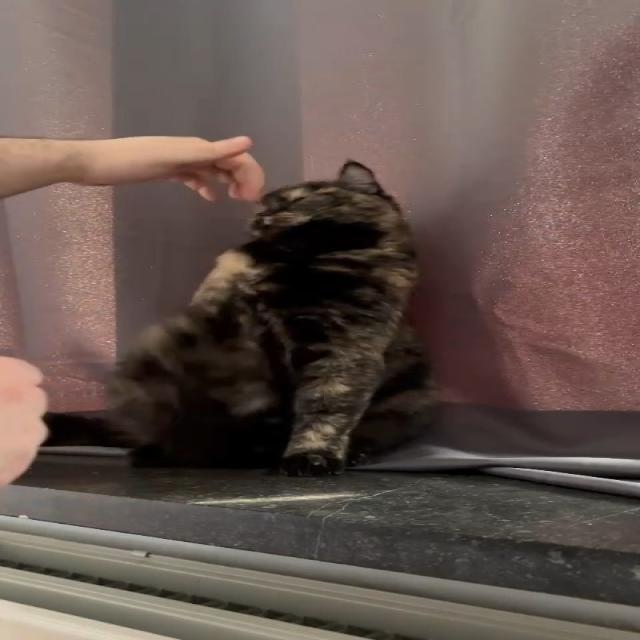authorized: (99, 158, 440, 477)
